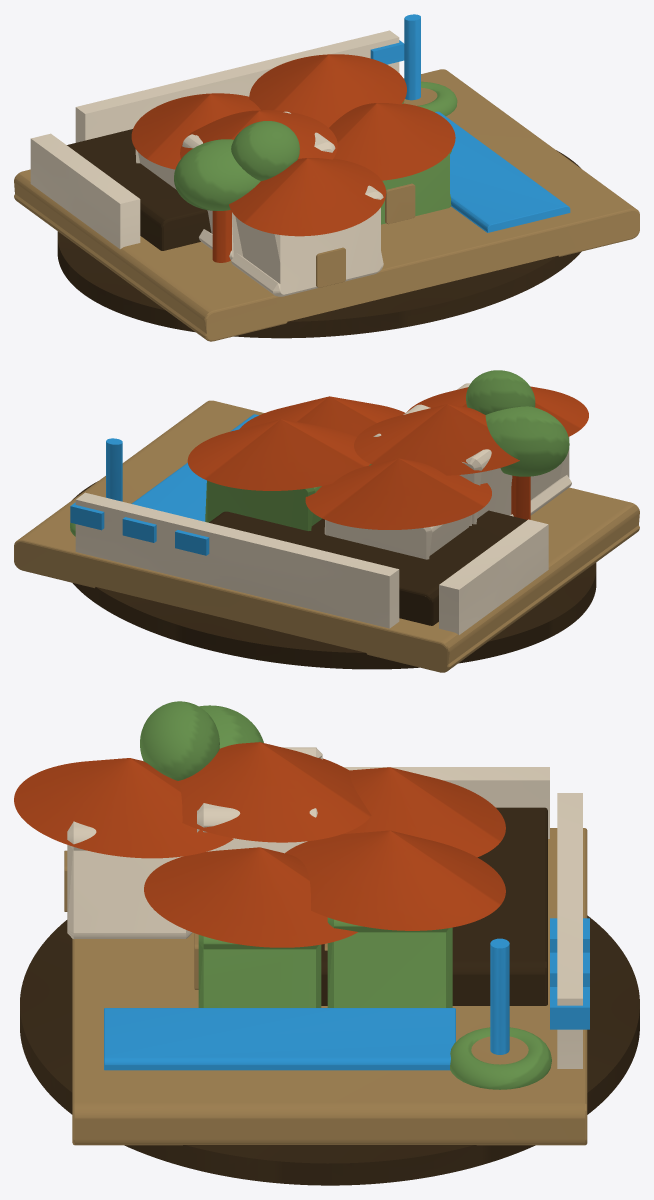
Rendered from 1111_左传_泓水之战战场.glb.
3 renders of one model, top to bottom at view 1: azimuth 30°, elevation 25°; view 2: azimuth 150°, elevation 25°; view 3: azimuth 270°, elevation 25°, orthographic. The views are drawn at different scales.
Visible parts, largest first — view 1: card_1111; view 2: card_1111; view 3: card_1111.
Part boxes in pixels (x1=…): card_1111: x1=14, y1=14, x2=639, y2=341; card_1111: x1=14, y1=370, x2=639, y2=672; card_1111: x1=14, y1=701, x2=639, y2=1185.
Size of the model in its own units: 2.82 by 1 by 2.34.
